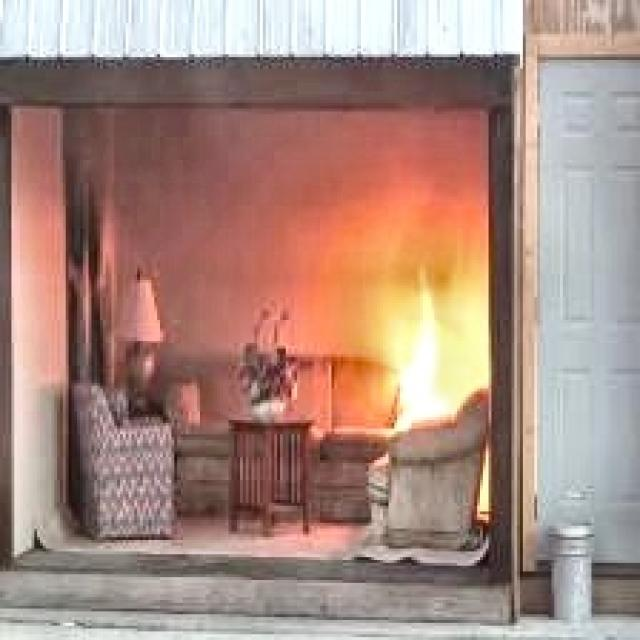fire: (374, 254, 492, 429)
